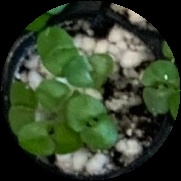Basil: (69, 99, 119, 148), (140, 61, 178, 114), (26, 119, 78, 156), (39, 28, 77, 75), (39, 80, 83, 120), (7, 80, 38, 134), (72, 51, 111, 91)
